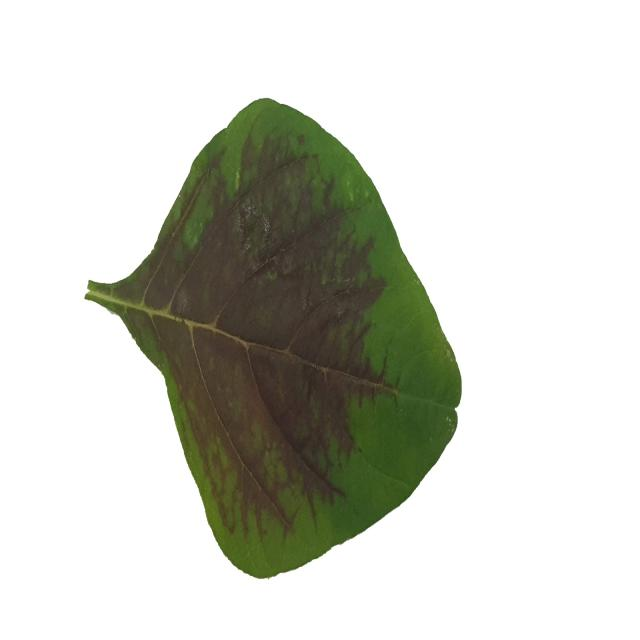Medicinal-Arive Dantu: (86, 94, 461, 575)
